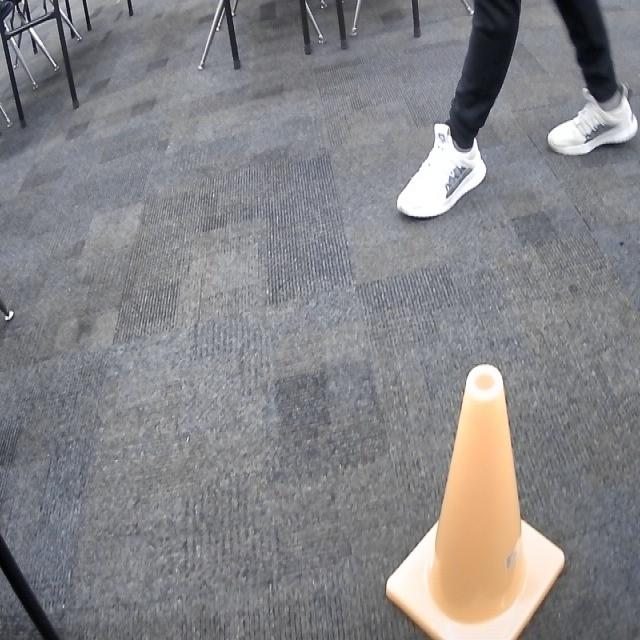cone: (383, 360, 568, 640)
